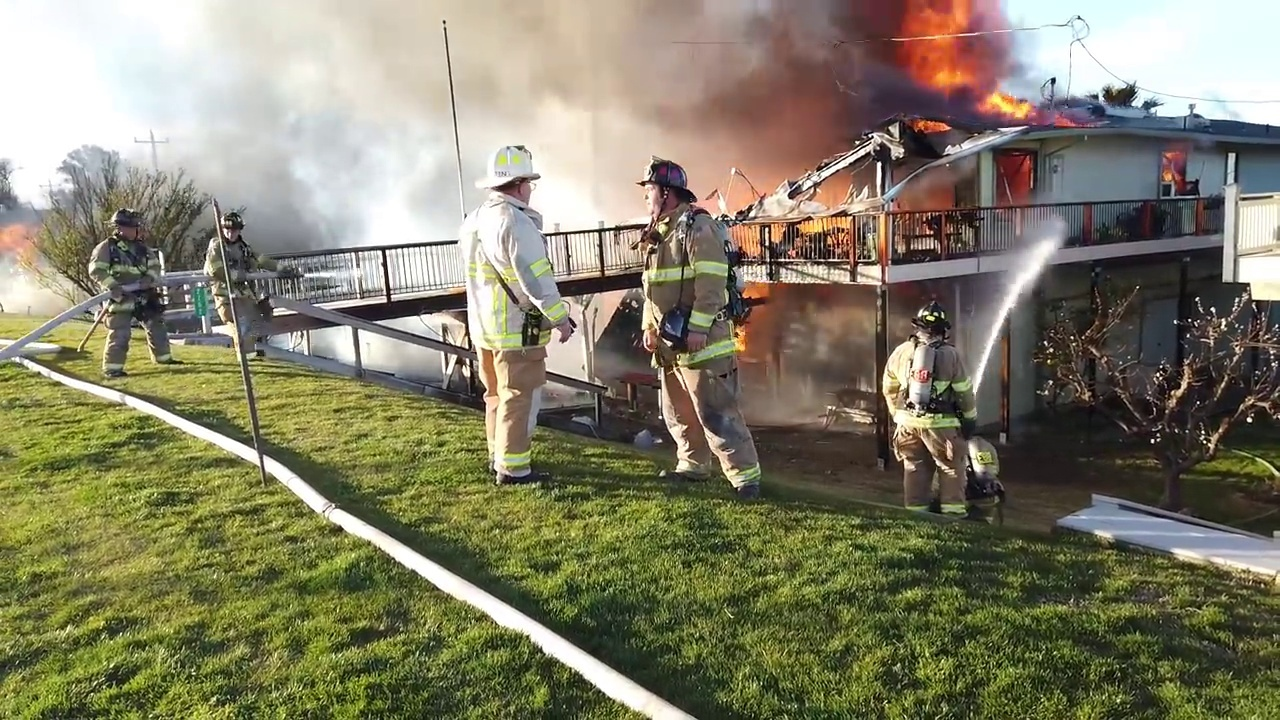fire: (909, 1, 973, 90), (1, 208, 43, 271), (976, 82, 1039, 118), (1042, 103, 1106, 131), (996, 149, 1031, 200), (903, 110, 953, 133), (1162, 153, 1188, 181), (733, 326, 752, 354), (740, 282, 766, 297)
smoke: (225, 9, 627, 134), (630, 1, 906, 128), (230, 136, 454, 240), (683, 140, 880, 222), (770, 290, 876, 407), (535, 143, 634, 220), (959, 1, 1026, 97), (358, 331, 453, 383), (549, 331, 591, 379), (587, 293, 627, 332), (308, 328, 353, 360)
